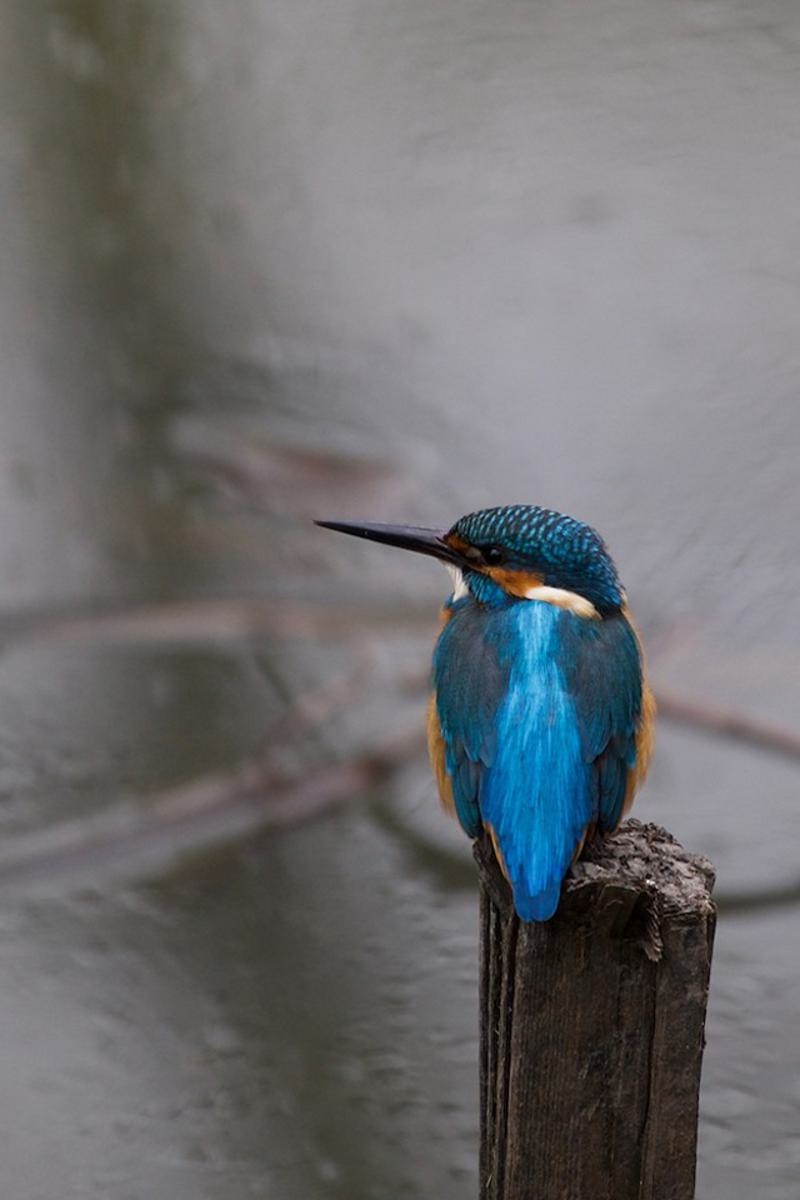kingfisher: (312, 460, 664, 924)
